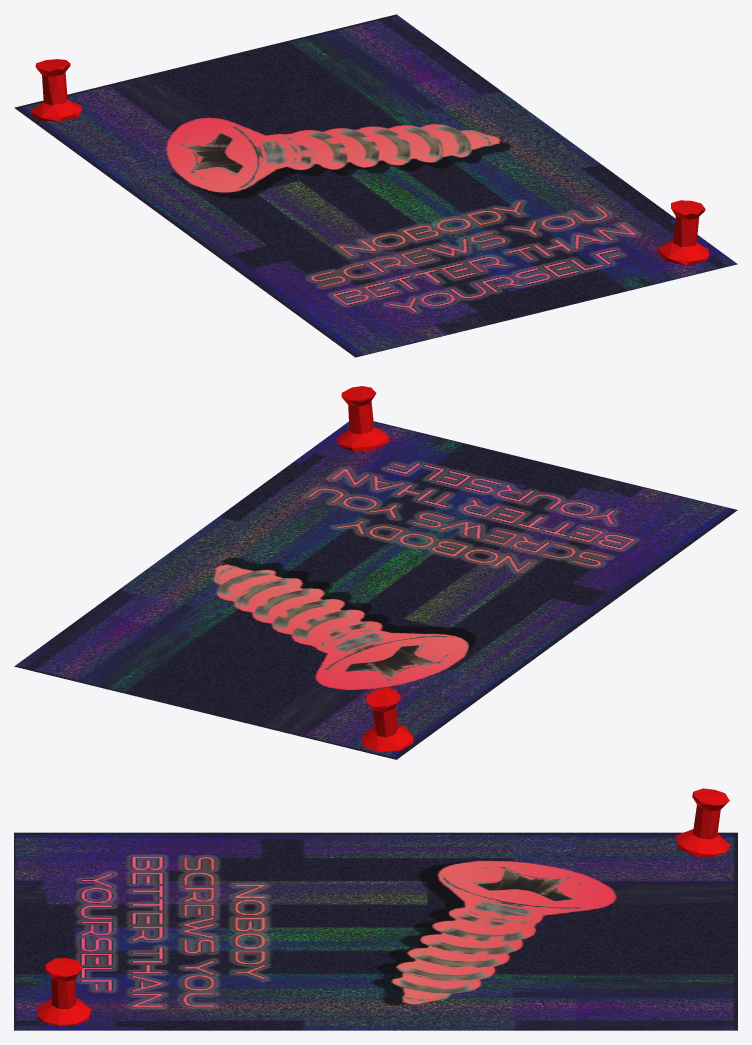
File: posters9.fbx
The picture shows the model from 3 angles, top to bottom: view 1: azimuth 30°, elevation 25°; view 2: azimuth 150°, elevation 25°; view 3: azimuth 270°, elevation 25°; orthographic projection. The views are drawn at different scales.
Visible parts, largest first — view 1: Poster_9, Cylinder.005; view 2: Poster_9, Cylinder.005; view 3: Poster_9, Cylinder.005.
Part boxes in pixels (box(x1,y1,x2,y2)): Poster_9: box(14, 14, 737, 357); Cylinder.005: box(29, 59, 709, 265); Poster_9: box(14, 421, 737, 759); Cylinder.005: box(336, 386, 413, 751); Poster_9: box(14, 832, 737, 1030); Cylinder.005: box(36, 788, 730, 1026).
Bounding box in the file's own units: 64.71 × 8.64 × 100.
